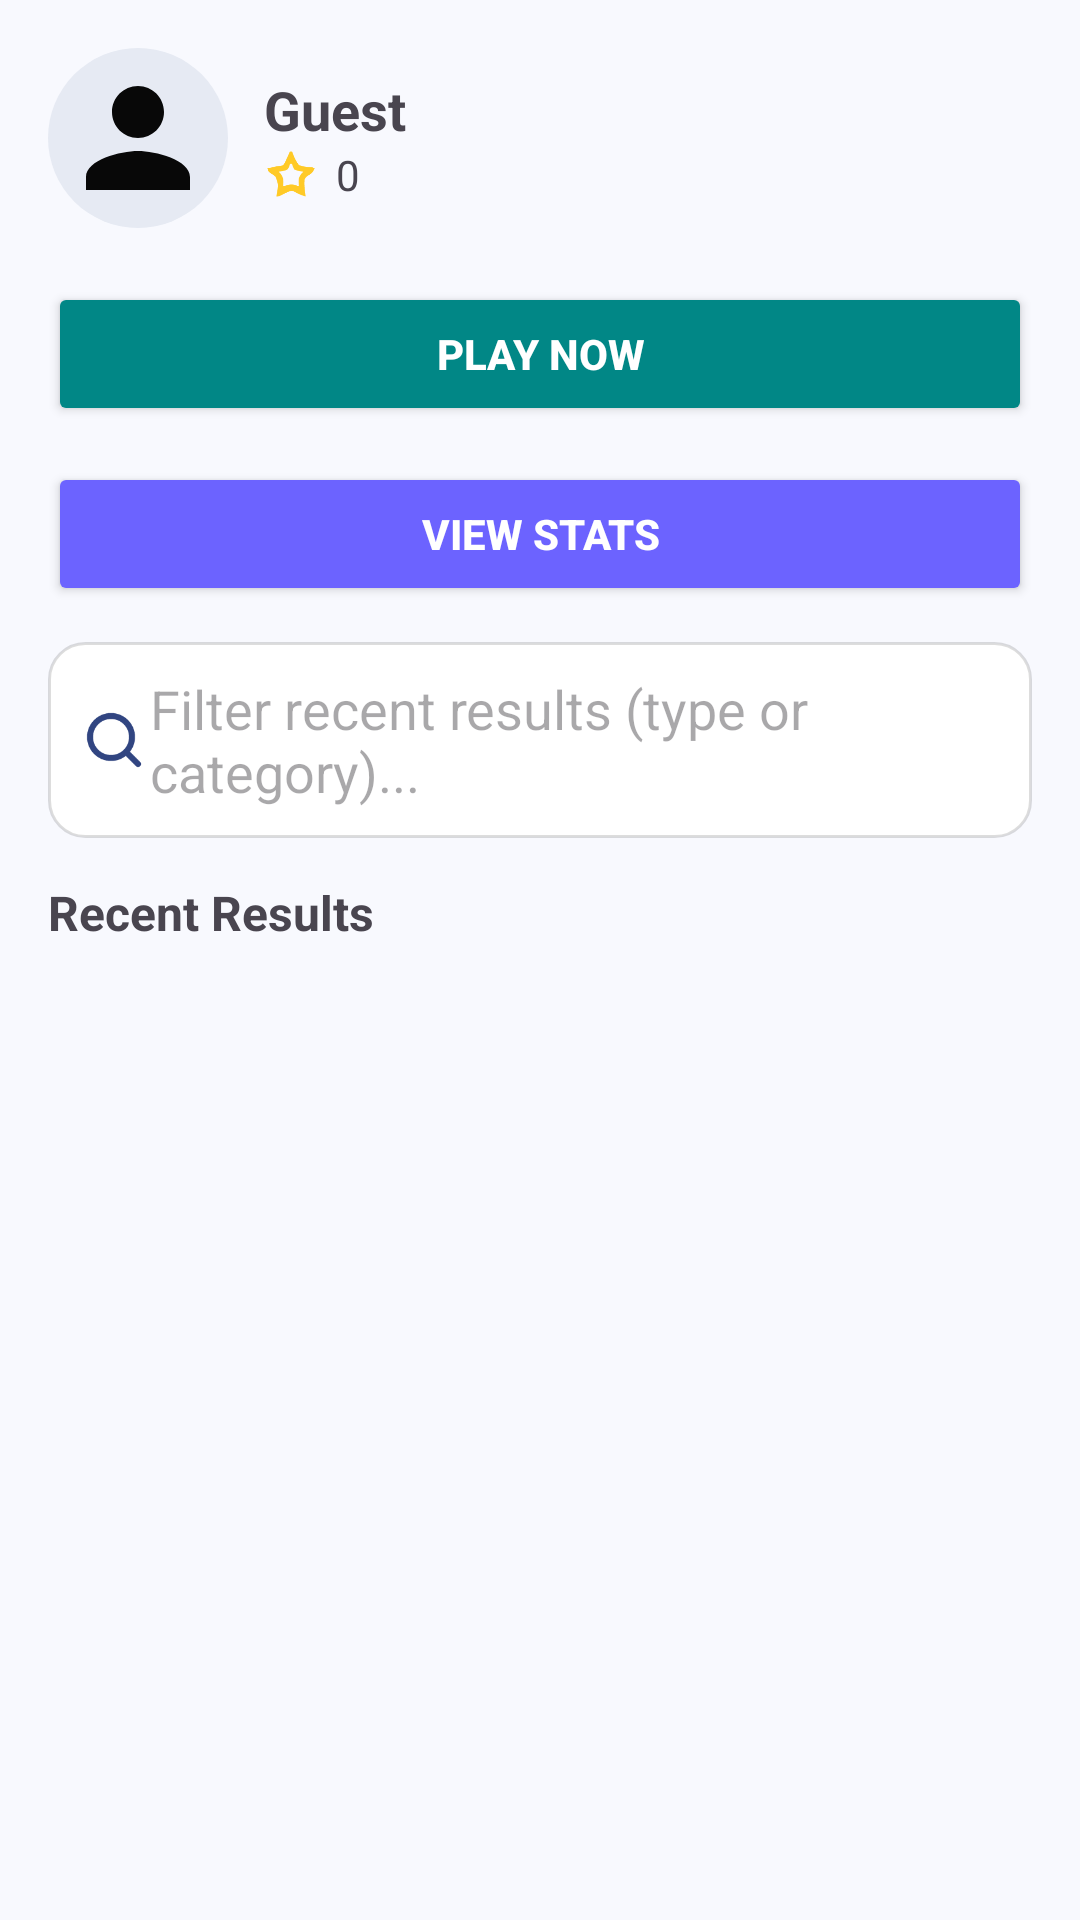

Point at icon controls on the screen. Image size 1080×1920, points as (x=x, y=y).
person: (x=138, y=138)
points: (x=291, y=174)
